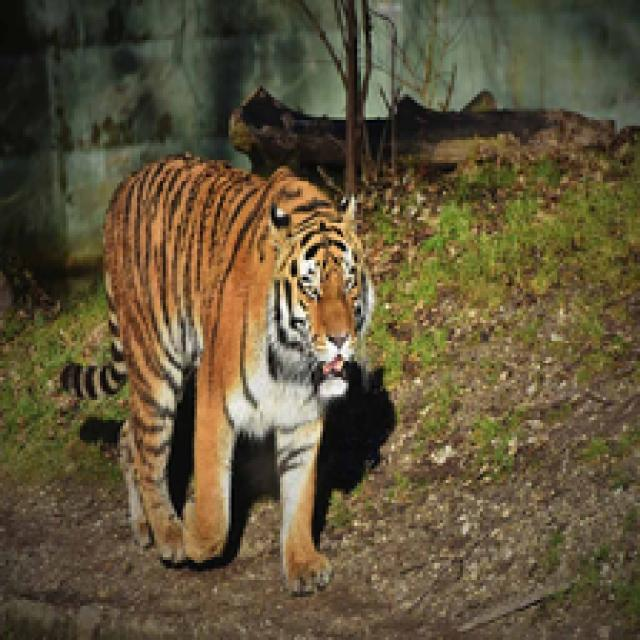tiger: (52, 142, 386, 599)
